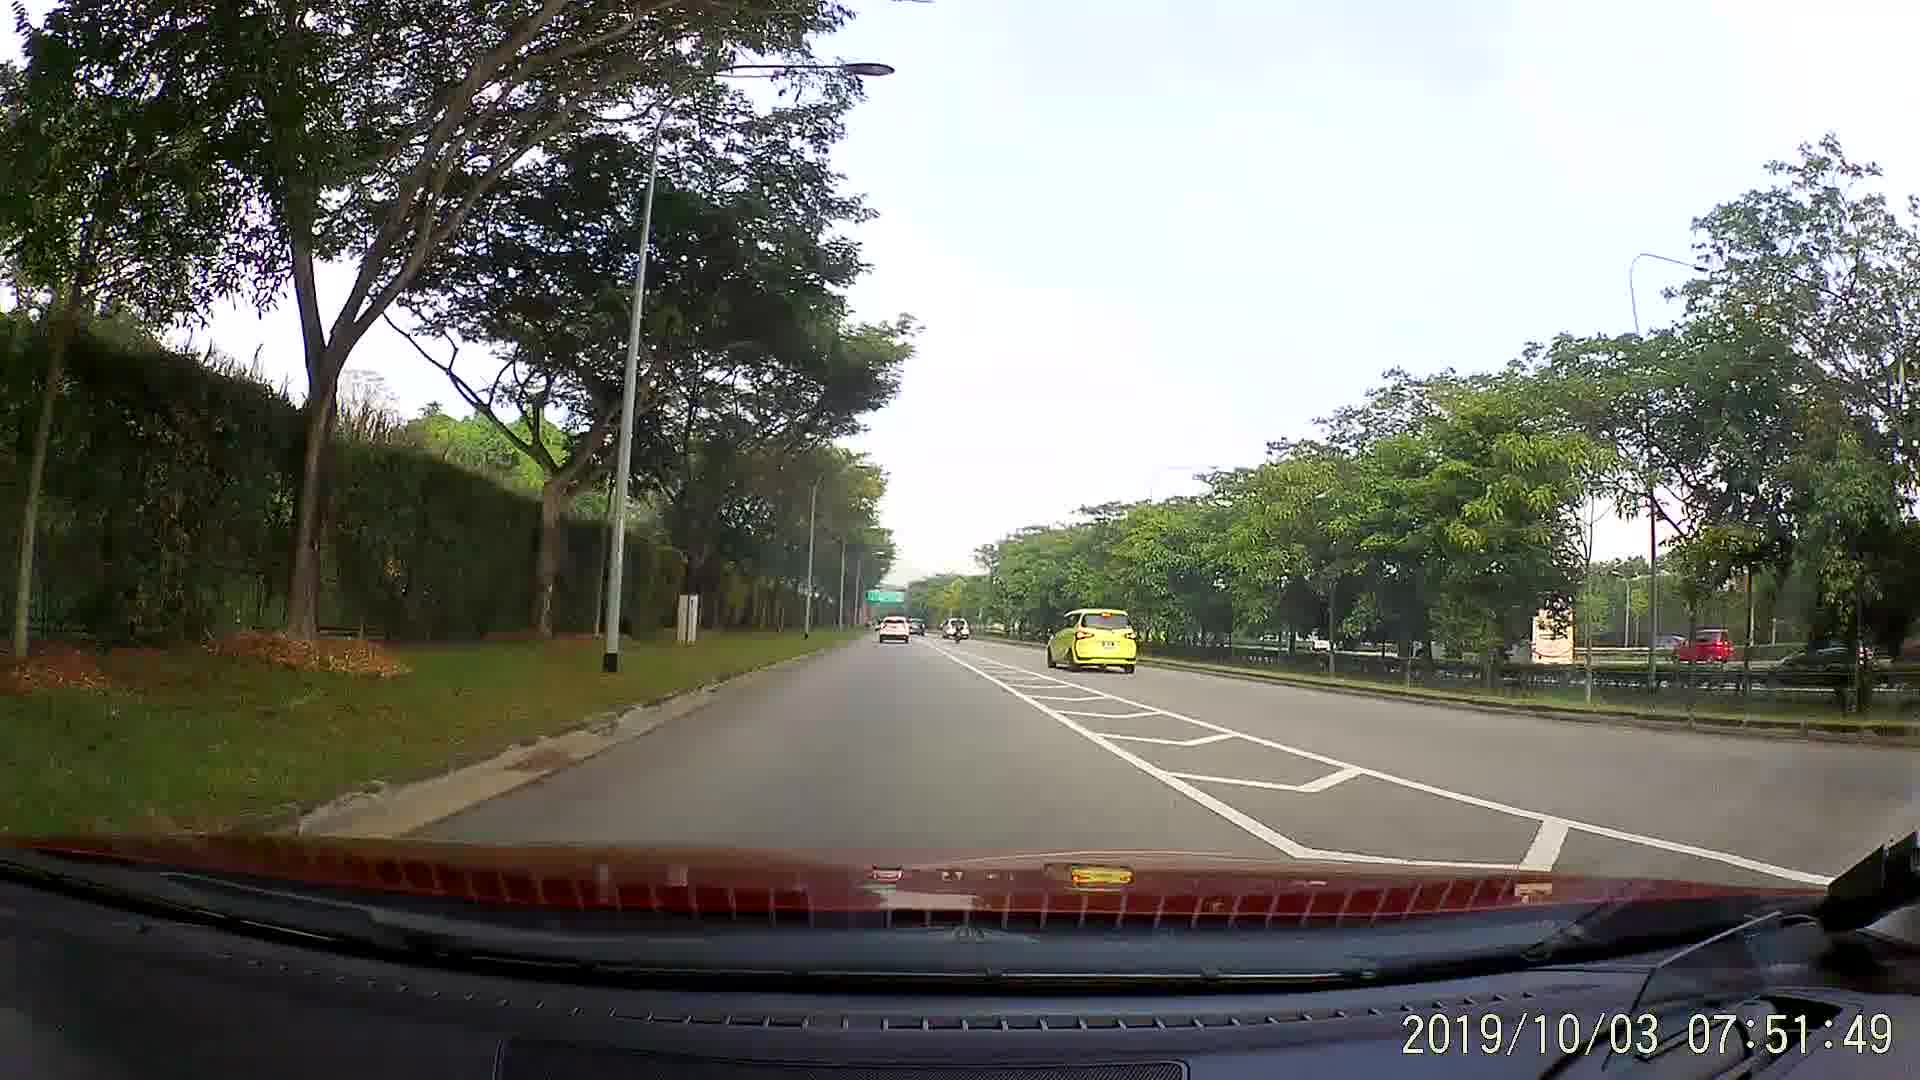car: (1048, 603, 1147, 675), (876, 613, 910, 644), (910, 611, 927, 636)
